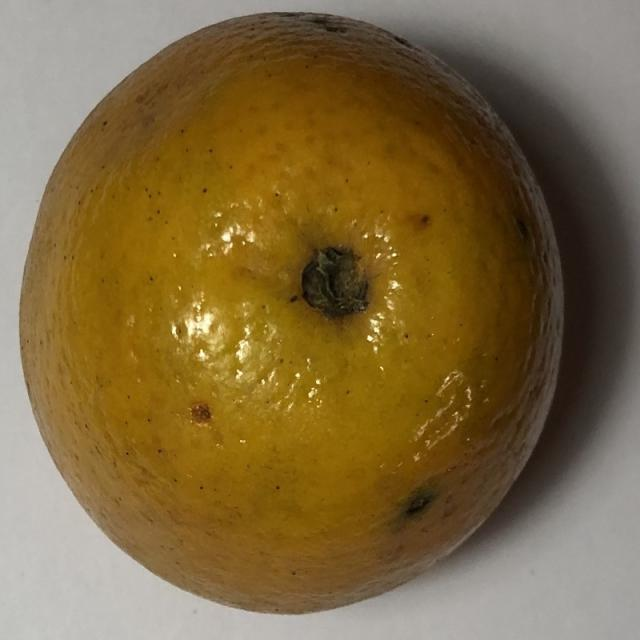blackspot: (16, 2, 580, 621)
